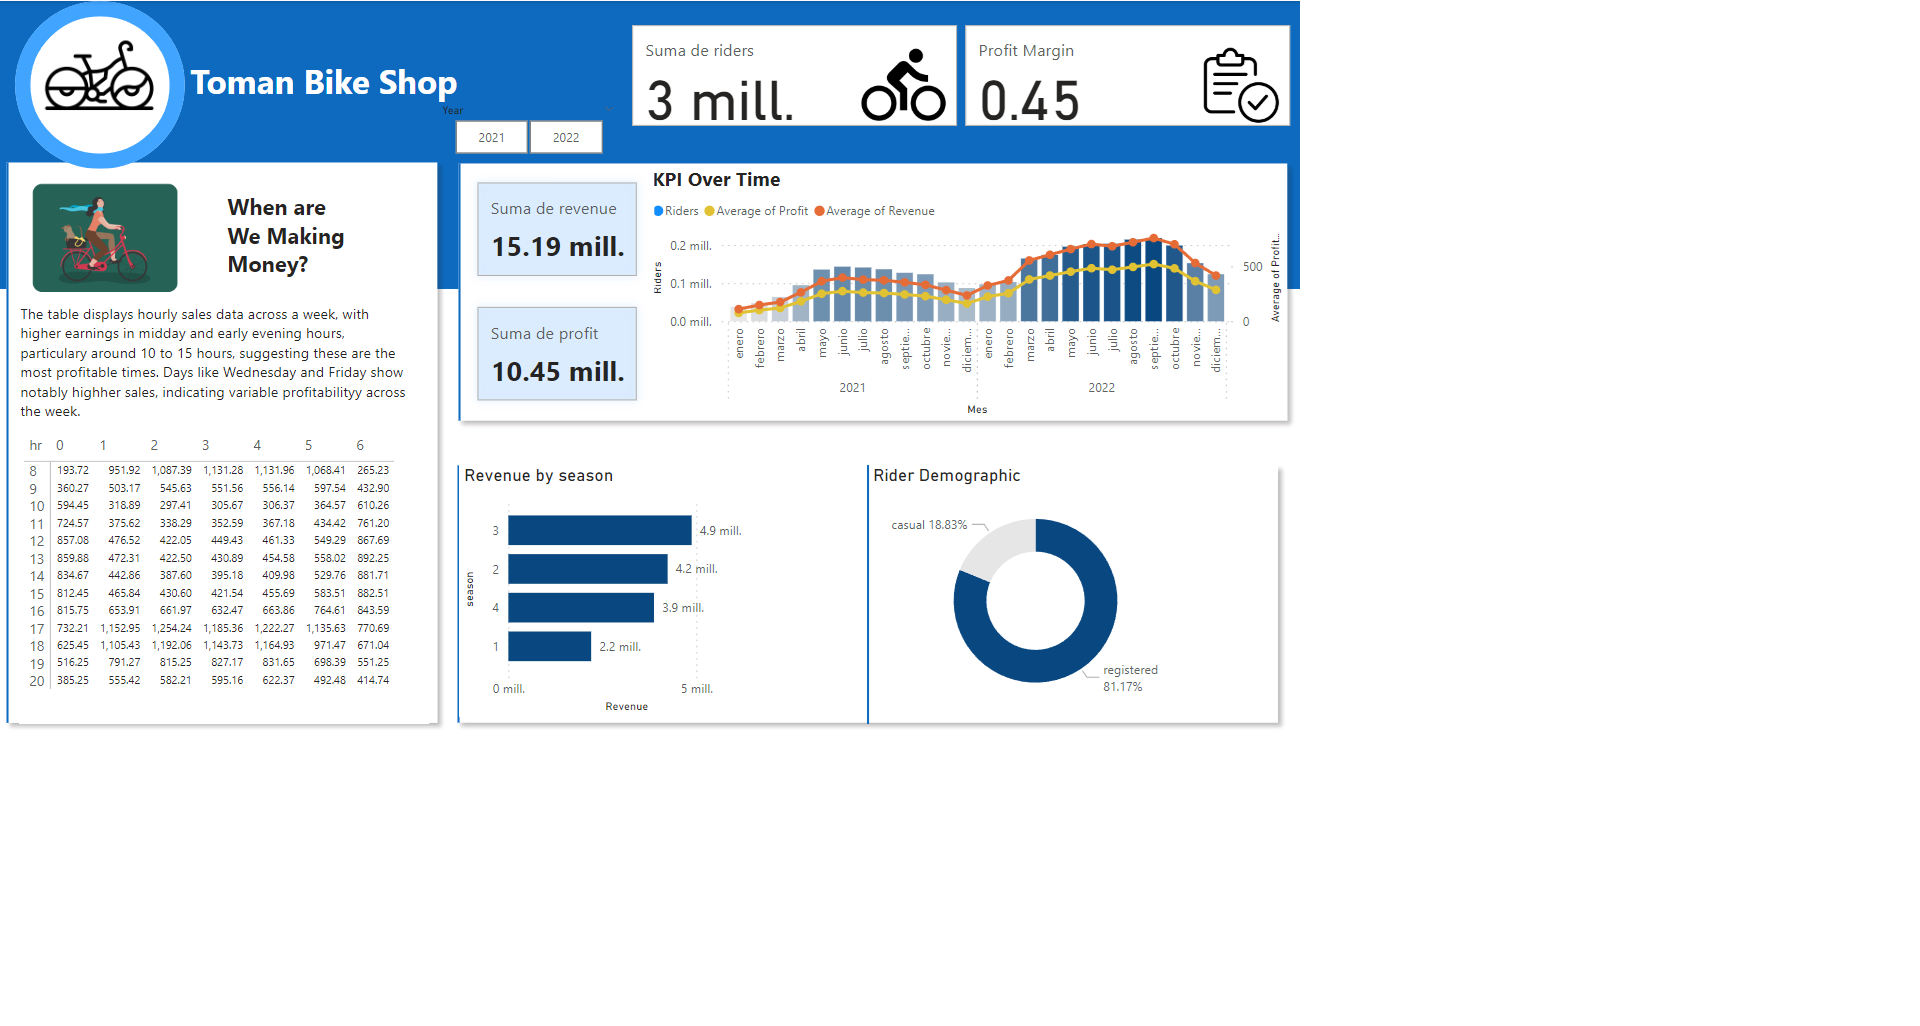

The page's visual inventory and layout, read from the dashboard file:
{"tool":"powerbi","page":{"name":"Página 1","canvas":[1280,720],"ordinal":0},"visuals":[{"type":"shape","box":[9.7,0,1270.3,280.1],"z":0},{"type":"cardVisual","fields":{"Data":["Min(Consulta1.riders)"]},"box":[0,140.1,453.3,579.7],"z":1000},{"type":"cardVisual","fields":{"Data":["Min(Consulta1.riders)"]},"box":[439.6,141,840.4,285],"z":2000},{"type":"cardVisual","fields":{"Data":["Sum(Consulta1.profit)"]},"box":[25.3,155.6,175.1,154.7],"z":3000},{"type":"pivotTable","fields":{"Values":["Avg(Consulta1.revenue)"],"Columns":["Consulta1.weekday"],"Rows":["Consulta1.hr"]},"box":[29.2,417.3,398.8,286],"z":4000},{"type":"textbox","box":[226.6,179.9,145.9,100.2],"z":5000},{"type":"textbox","box":[25.3,288.9,386.1,128.4],"z":6000},{"type":"lineClusteredColumnComboChart","title":"KPI Over Time","fields":{"Category":["Consulta1.dteday.Variación.Jerarquía de fechas.Año","Consulta1.dteday.Variación.Jerarquía de fechas.Mes","Consulta1.dteday.Variación.Jerarquía de fechas.Día"],"Y":["Sum(Consulta1.riders)"],"Y2":["Avg(Consulta1.profit)","Avg(Consulta1.revenue)"]},"box":[640,159.5,621.5,248],"z":7000},{"type":"cardVisual","fields":{"Data":["Min(Consulta1.riders)"]},"box":[438.7,434.8,832.6,285],"z":8000},{"type":"clusteredBarChart","title":"Revenue by season","fields":{"Category":["Consulta1.season"],"Y":["Sum(Consulta1.revenue)"]},"box":[457.1,451.3,299.6,245.1],"z":9000},{"type":"donutChart","title":"Rider Demographic","fields":{"Category":["Consulta1.rider_type"],"Y":["Sum(Consulta1.riders)"]},"box":[855,451.3,325.8,245.1],"z":10000},{"type":"shape","box":[705.2,451.3,299.6,251.9],"z":11000},{"type":"cardVisual","title":"KPI Over Time","fields":{"Data":["Sum(Consulta1.revenue)","Sum(Consulta1.profit)"]},"box":[459.1,160.5,187.7,244.1],"z":12000},{"type":"cardVisual","fields":{"Data":["Sum(Consulta1.riders)","Consulta1.Profit Margin"]},"box":[620.5,18.5,650.7,108.9],"z":13000},{"type":"shape","box":[25.3,0,165.3,163.4],"z":14000},{"type":"image","box":[42.8,8.8,129.4,127.4],"z":15000},{"type":"textbox","box":[190.6,50.6,288.9,62.2],"z":16000},{"type":"slicer","fields":{"Values":["Consulta1.Personalizado"]},"box":[428,95.3,192.6,60.3],"z":16001}]}

Visuals, with their boxes on the page's 1280x720 design canvas (x1, y1, x2, y2). These are canvas units, not pixel positions in the 1920x1026 screenshot, which may show the page scaled, cropped or inside an application window:
shape: select_region(10, 0, 1280, 280)
cardVisual - Min(Consulta1.riders): select_region(0, 140, 453, 720)
cardVisual - Min(Consulta1.riders): select_region(440, 141, 1280, 426)
cardVisual - Sum(Consulta1.profit): select_region(25, 156, 200, 310)
pivotTable - Avg(Consulta1.revenue) x Consulta1.weekday: select_region(29, 417, 428, 703)
textbox: select_region(227, 180, 372, 280)
textbox: select_region(25, 289, 411, 417)
"KPI Over Time" lineClusteredColumnComboChart: select_region(640, 160, 1262, 408)
cardVisual - Min(Consulta1.riders): select_region(439, 435, 1271, 720)
"Revenue by season" clusteredBarChart: select_region(457, 451, 757, 696)
"Rider Demographic" donutChart: select_region(855, 451, 1181, 696)
shape: select_region(705, 451, 1005, 703)
"KPI Over Time" cardVisual: select_region(459, 160, 647, 405)
cardVisual - Sum(Consulta1.riders) x Consulta1.Profit Margin: select_region(620, 18, 1271, 127)
shape: select_region(25, 0, 191, 163)
image: select_region(43, 9, 172, 136)
textbox: select_region(191, 51, 480, 113)
slicer - Consulta1.Personalizado: select_region(428, 95, 621, 156)
